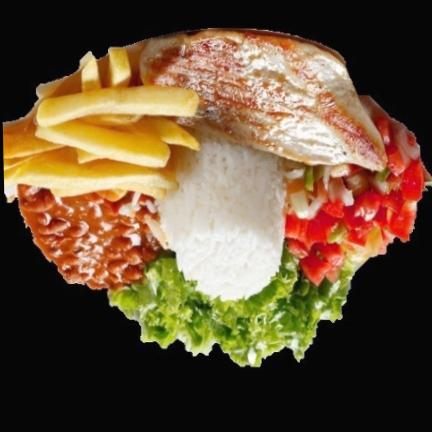beans: (18, 186, 160, 289)
chicken: (140, 30, 386, 171)
potato: (3, 46, 199, 199)
rice: (157, 132, 286, 301)
salad: (109, 246, 354, 367)
tomato: (285, 115, 432, 286)
